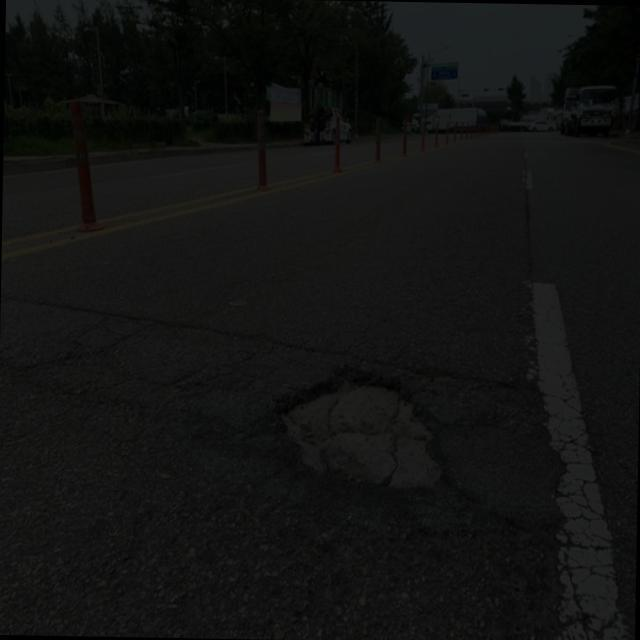pothole: (244, 354, 456, 498)
